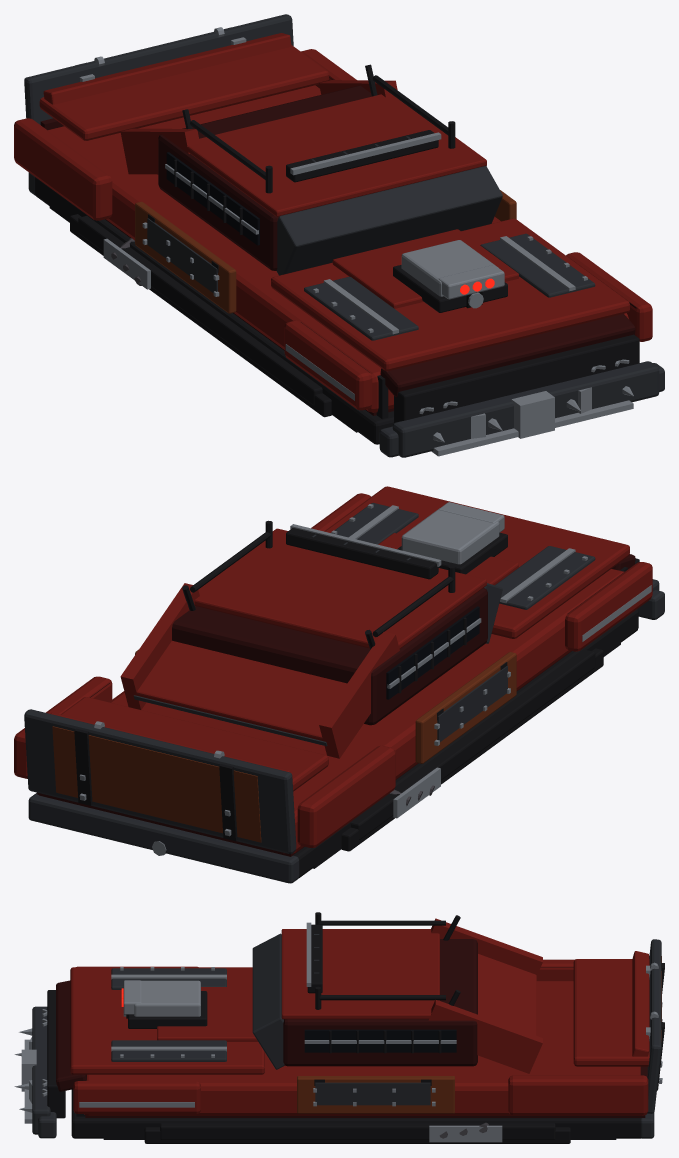
File: car_body.glb
3 renders of one model, top to bottom at view 1: azimuth 30°, elevation 25°; view 2: azimuth 150°, elevation 25°; view 3: azimuth 270°, elevation 25°, orthographic. The views are drawn at different scales.
Parts seen in each view (by area): view 1: chassis, part_spikes, part_tombstone, part_roof, part_armor_l; view 2: chassis, part_tombstone, part_roof, part_armor_l; view 3: chassis, part_armor_r, part_roof, part_spikes, part_tombstone.
Boxes of the visible parts, left/top/right/bottom form: chassis: left=14, top=33, right=664, bottom=457; part_spikes: left=392, top=361, right=659, bottom=457; part_tombstone: left=24, top=14, right=293, bottom=124; part_roof: left=182, top=64, right=455, bottom=193; part_armor_l: left=135, top=201, right=236, bottom=313; chassis: left=14, top=486, right=664, bottom=883; part_tombstone: left=24, top=709, right=296, bottom=853; part_roof: left=182, top=520, right=455, bottom=649; part_armor_l: left=415, top=652, right=516, bottom=763; chassis: left=38, top=918, right=654, bottom=1143; part_armor_r: left=297, top=1076, right=454, bottom=1113; part_roof: left=306, top=912, right=460, bottom=1009; part_spikes: left=14, top=1006, right=50, bottom=1134; part_tombstone: left=647, top=939, right=664, bottom=1113.
Size of the model in its own units: 1.92 by 0.995 by 4.28.
